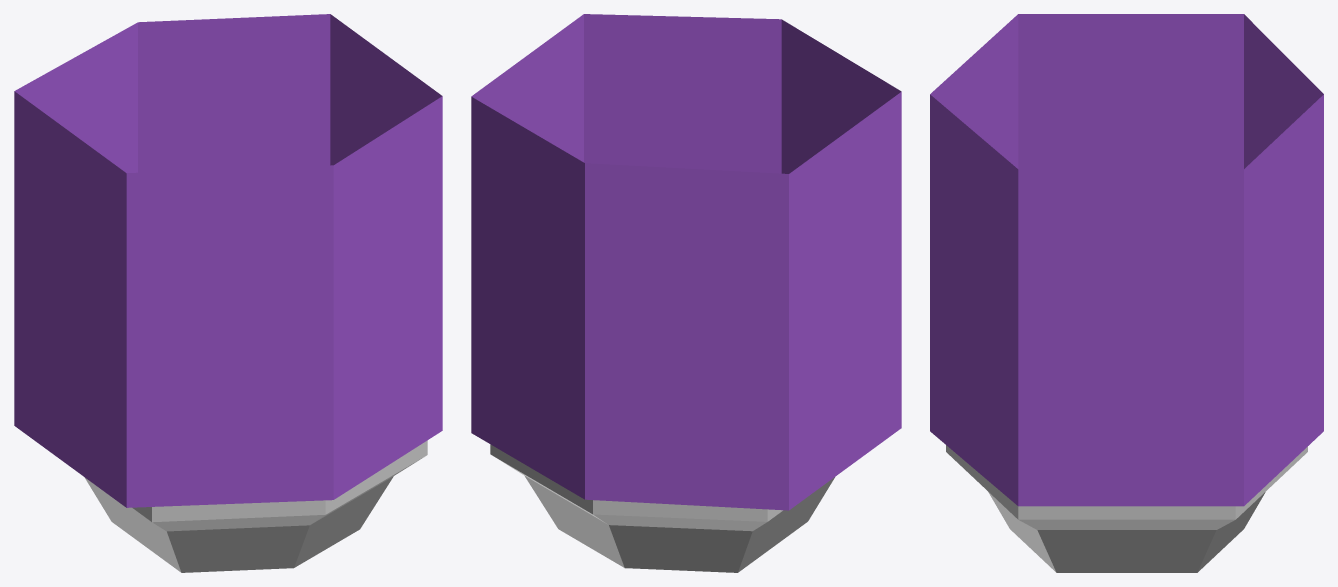
Rendered from JumpPad.fbx.
3 views of the same model, side by side, from view 1: azimuth 30°, elevation 25°; view 2: azimuth 150°, elevation 25°; view 3: azimuth 270°, elevation 25° (orthographic).
Visible parts, largest first — view 1: Plane, Cube; view 2: Plane, Cube; view 3: Plane, Cube.
Boxes of the visible parts, bbox=[...] form: Plane: bbox=[14, 14, 442, 507]; Cube: bbox=[84, 440, 427, 572]; Plane: bbox=[471, 14, 901, 510]; Cube: bbox=[490, 444, 834, 572]; Plane: bbox=[930, 14, 1323, 506]; Cube: bbox=[946, 445, 1307, 572].
Size of the model in its own units: 988 by 1290 by 1059.
